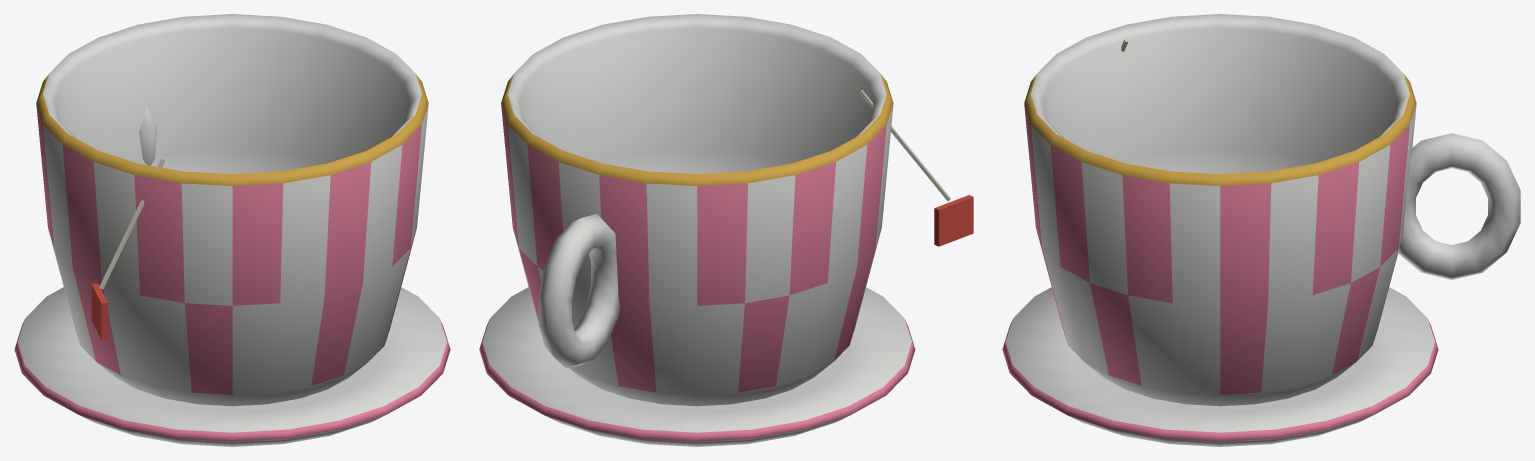
The model's file is kitchen-hide.glb.
3 views of the same model, side by side, from view 1: azimuth 30°, elevation 25°; view 2: azimuth 150°, elevation 25°; view 3: azimuth 270°, elevation 25° (orthographic).
Visible parts, largest first — view 1: kitchen-hide; view 2: kitchen-hide; view 3: kitchen-hide.
Boxes of the visible parts, left/top/right/bottom form: kitchen-hide: left=14, top=14, right=450, bottom=446; kitchen-hide: left=479, top=14, right=973, bottom=446; kitchen-hide: left=1002, top=14, right=1520, bottom=446.
Size of the model in its own units: 1.35 by 0.89 by 1.54.
